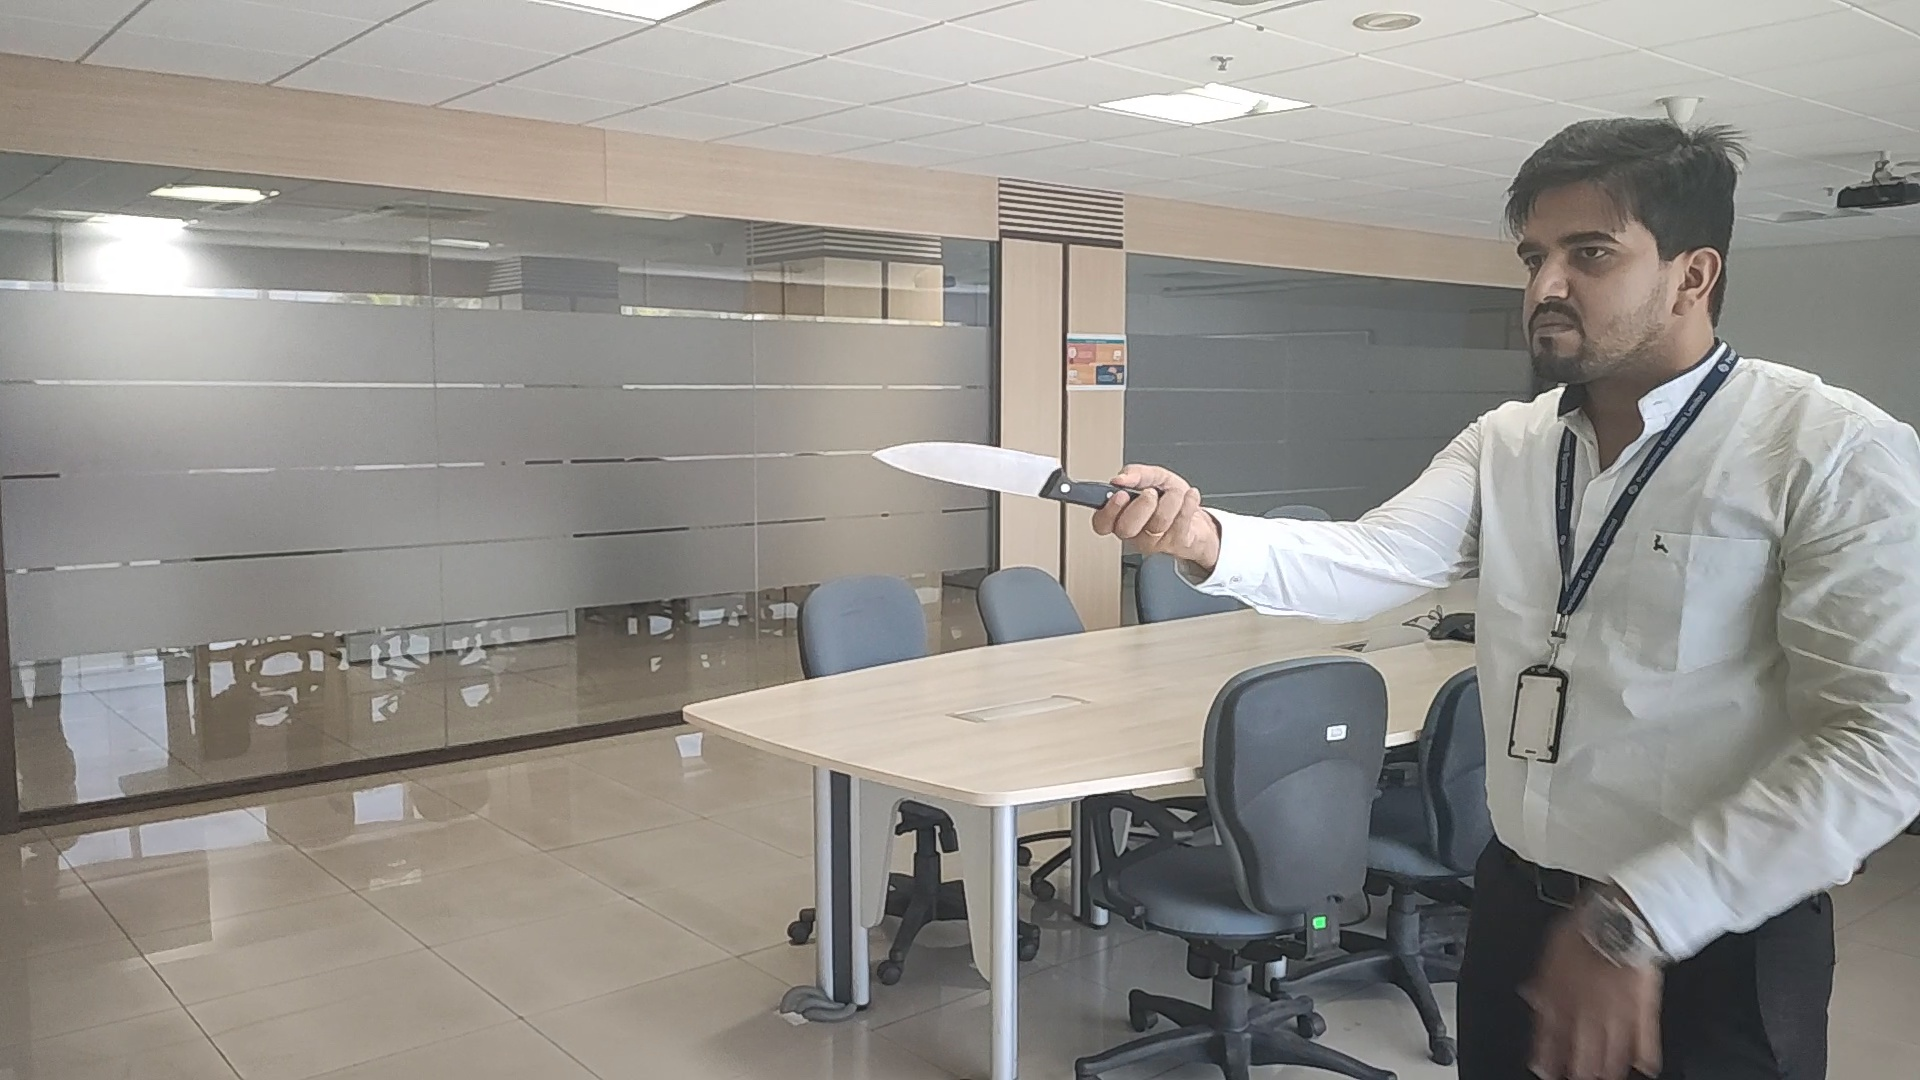knife: (866, 433, 1113, 506)
